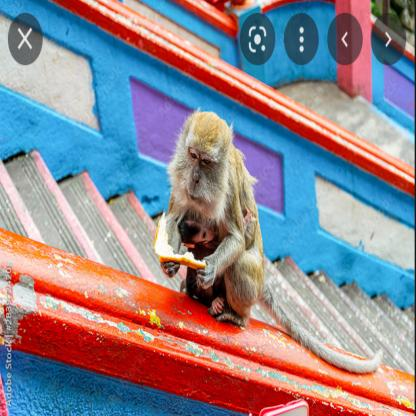monkey: (152, 107, 286, 330)
